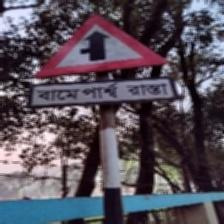Side-road-left: (30, 12, 177, 113)
